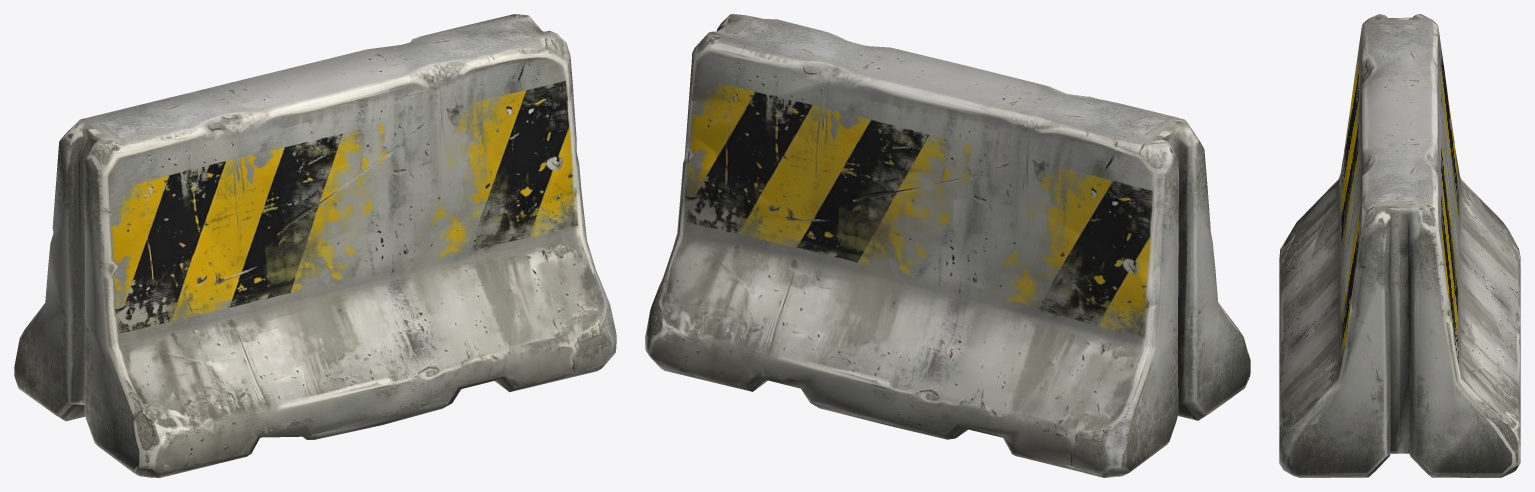
File: jersey.glb
3 renders of one model, left to right at view 1: azimuth 30°, elevation 25°; view 2: azimuth 150°, elevation 25°; view 3: azimuth 270°, elevation 25°, orthographic. The views are drawn at different scales.
Parts seen in each view (by area): view 1: Mesh_0; view 2: Mesh_0; view 3: Mesh_0.
Part boxes in pixels (bbox=[...]): Mesh_0: bbox=[14, 14, 616, 477]; Mesh_0: bbox=[645, 14, 1250, 477]; Mesh_0: bbox=[1279, 14, 1520, 477].
Bounding box in the file's own units: 1.9 × 1.13 × 0.936.
1 material, 1 textured.
